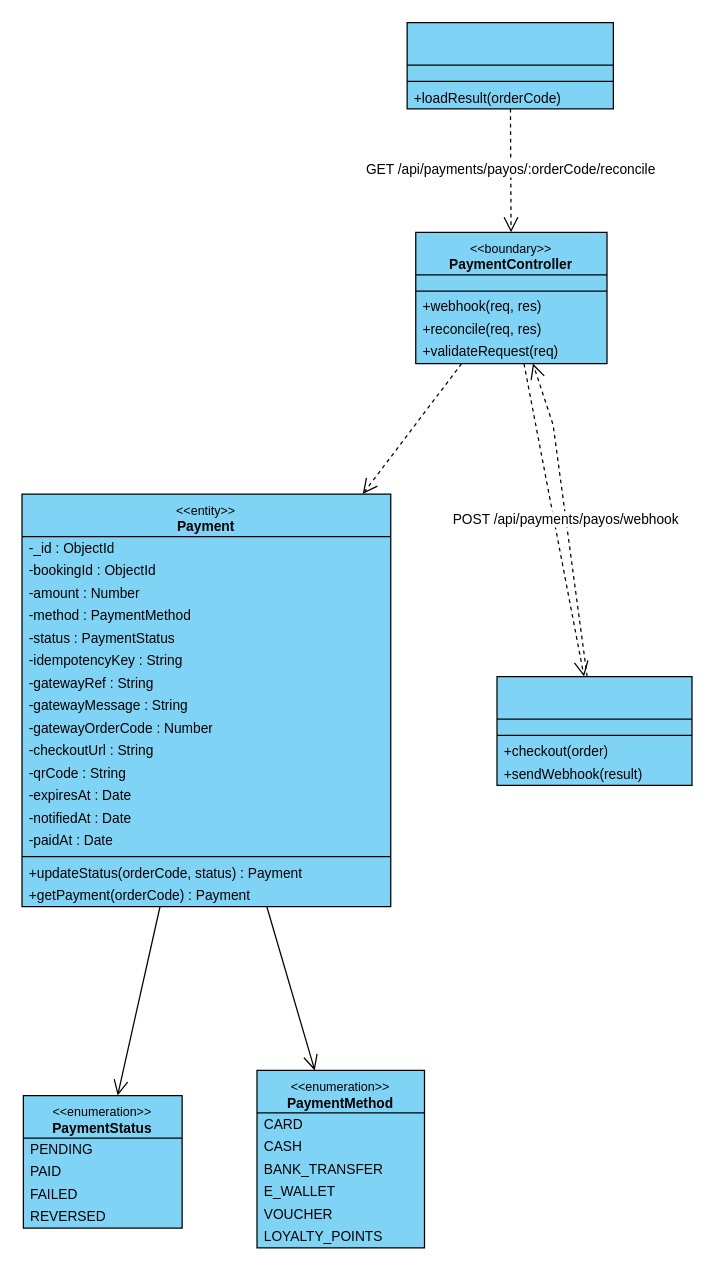
The diagram is 714 pixels wide and 1270 high, and some of its shapes have lost their labels. The shapes that lost their labels are listed below. From the top down, each one's box as (x1, y1, x2, y2) in pixels, then its label:
(406, 21, 613, 109): <<boundary>> PaymentResultPage
(496, 675, 692, 785): <<external>> PayOS
